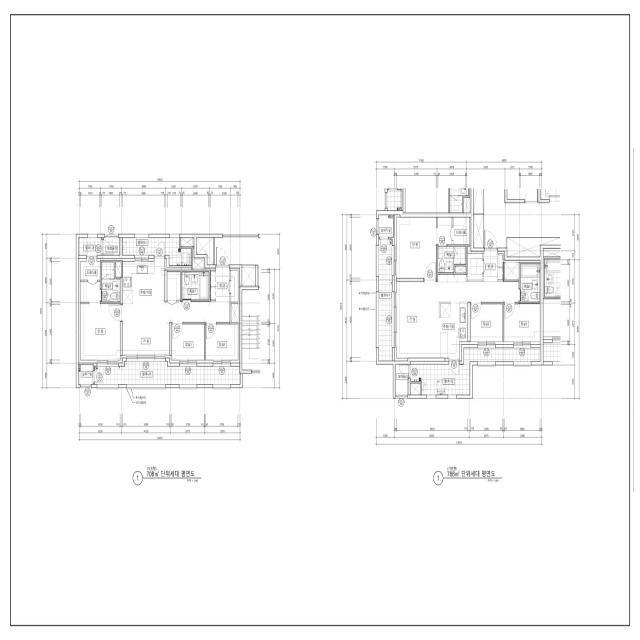space_balconi: (410, 348, 540, 395), (94, 361, 240, 384), (123, 238, 191, 266), (379, 239, 392, 361), (79, 238, 101, 255)
space_bedroom: (397, 217, 436, 278), (81, 304, 120, 360), (504, 304, 540, 342), (470, 304, 503, 342), (172, 324, 204, 360), (206, 324, 238, 360)
space_dressroom: (437, 217, 469, 245), (81, 258, 100, 302)
space_front: (210, 268, 230, 302), (484, 250, 503, 282)
space_kitchen: (123, 258, 165, 302), (439, 302, 468, 358)
space_living_room: (397, 275, 519, 358), (123, 302, 230, 355)
space_other: (196, 238, 213, 265), (167, 272, 181, 300), (467, 254, 482, 280), (396, 364, 408, 395), (242, 265, 256, 286), (103, 238, 120, 255), (505, 262, 519, 280), (231, 270, 238, 302), (231, 304, 238, 322), (410, 383, 420, 395), (181, 238, 194, 247), (193, 260, 203, 270), (115, 262, 121, 277), (455, 266, 466, 273)
space_outdoor_room: (379, 215, 393, 237), (79, 365, 93, 384)
space_toilet: (101, 262, 120, 302), (520, 264, 540, 302), (182, 272, 209, 300), (438, 246, 466, 273)
